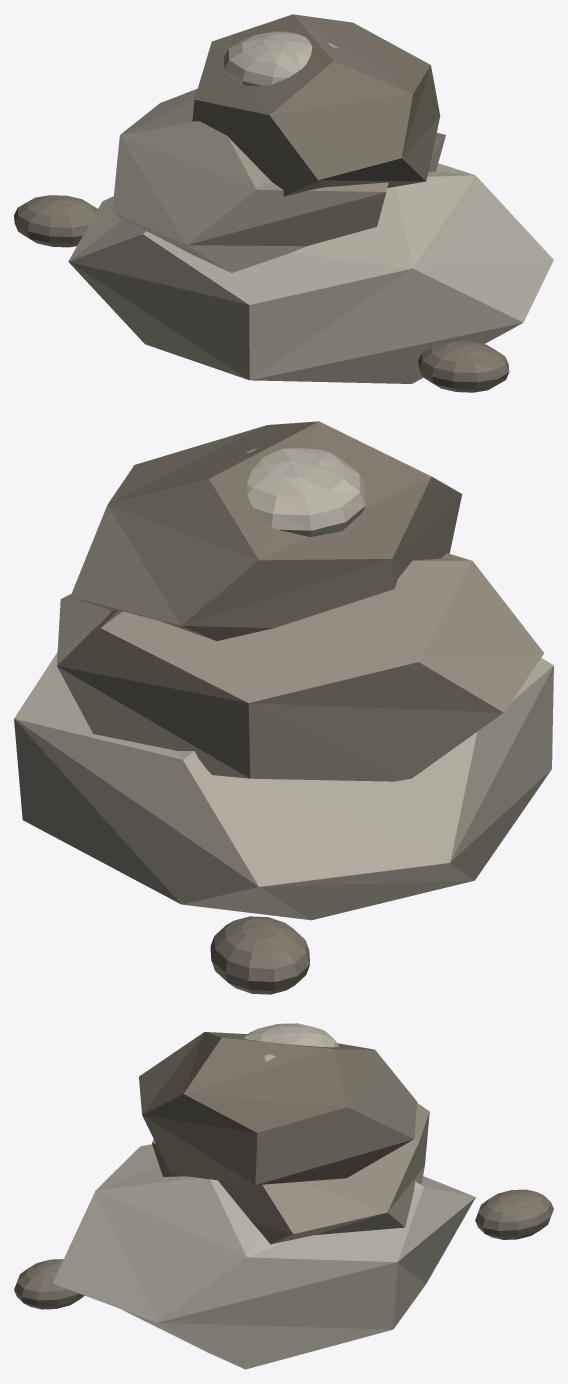
The model's file is cairn.glb.
The picture shows the model from 3 angles, top to bottom: view 1: azimuth 30°, elevation 25°; view 2: azimuth 150°, elevation 25°; view 3: azimuth 270°, elevation 25°; orthographic projection. The views are drawn at different scales.
Size of the model in its own units: 1.46 by 1.2 by 2.02.
